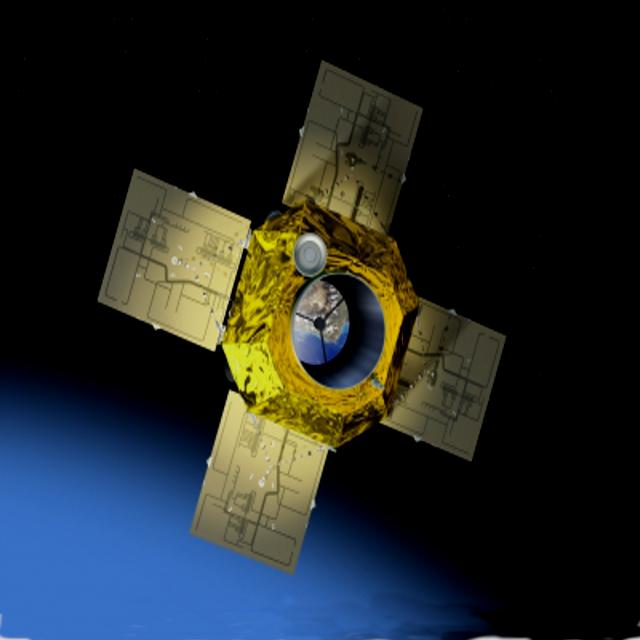satellite: (95, 41, 526, 558)
